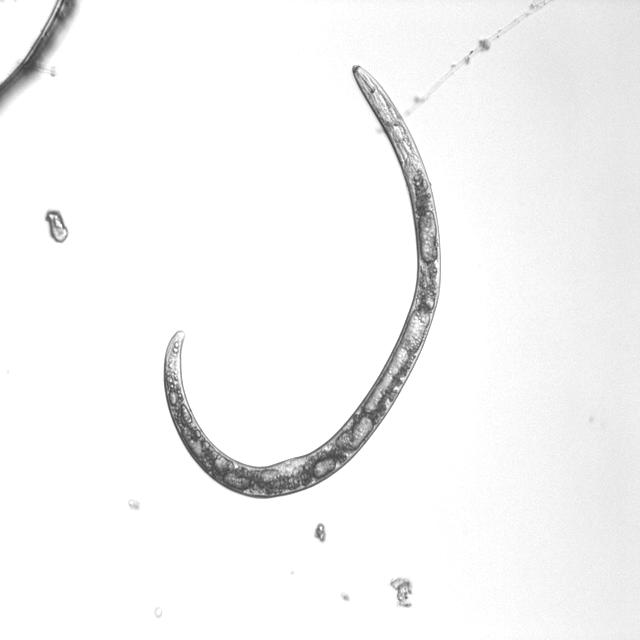Helicotylenchus: (152, 61, 454, 504)
